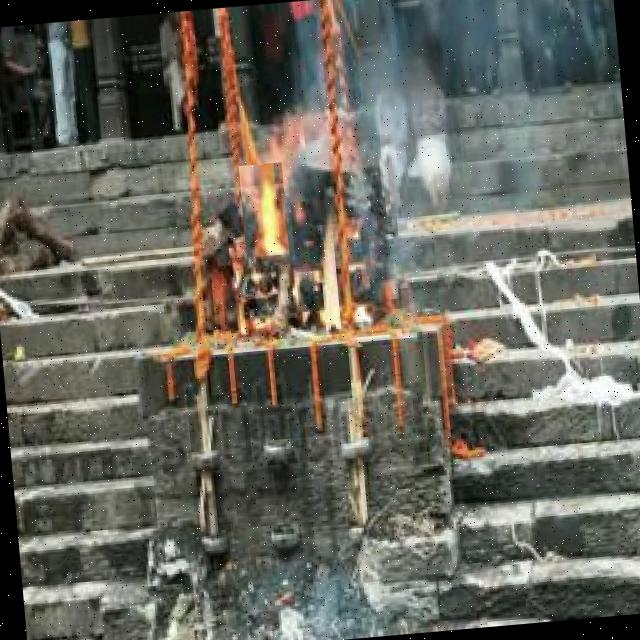fire: (238, 162, 290, 267)
